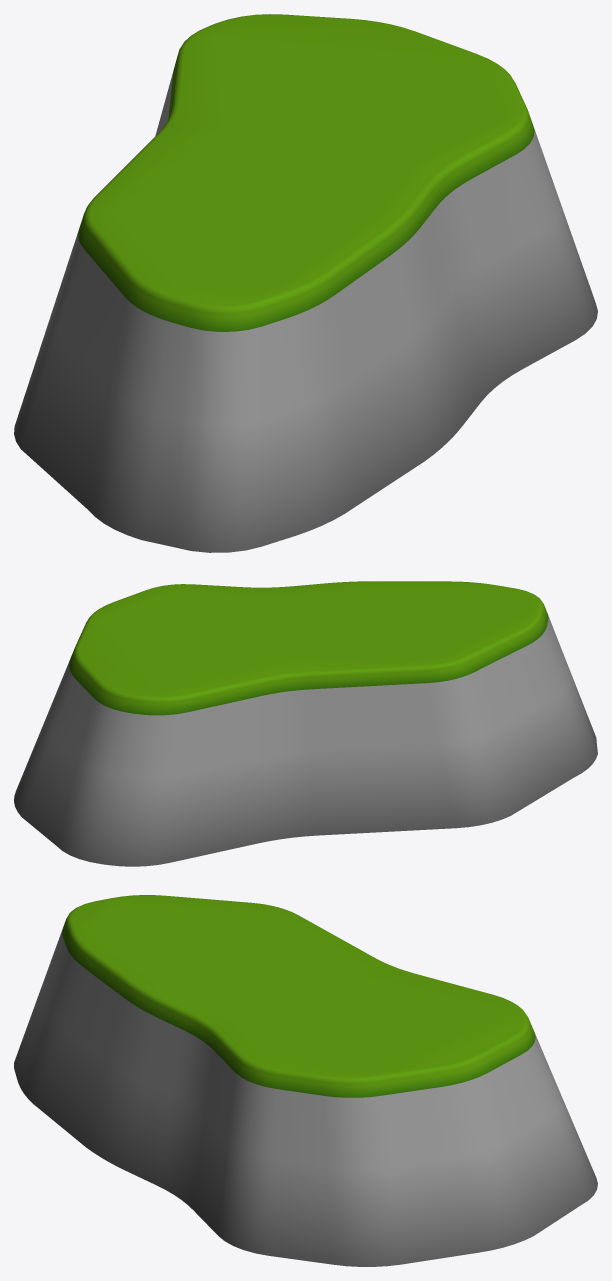
Rendered from Mountain03.fbx.
3 renders of one model, top to bottom at view 1: azimuth 30°, elevation 25°; view 2: azimuth 150°, elevation 25°; view 3: azimuth 270°, elevation 25°, orthographic. The views are drawn at different scales.
Parts seen in each view (by area): view 1: LOD0; view 2: LOD0; view 3: LOD0.
Boxes of the visible parts, bbox=[...] form: LOD0: bbox=[14, 14, 597, 552]; LOD0: bbox=[14, 581, 597, 866]; LOD0: bbox=[14, 895, 597, 1266].
Size of what is drawn, in the model's own units: 1167 by 1232 by 375.
